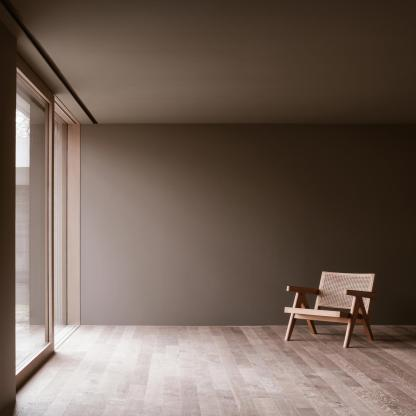chair: (267, 267, 381, 353)
door: (12, 62, 54, 386)
